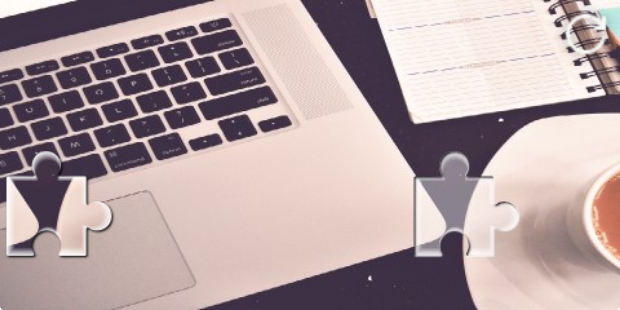target: (414, 151, 519, 256)
